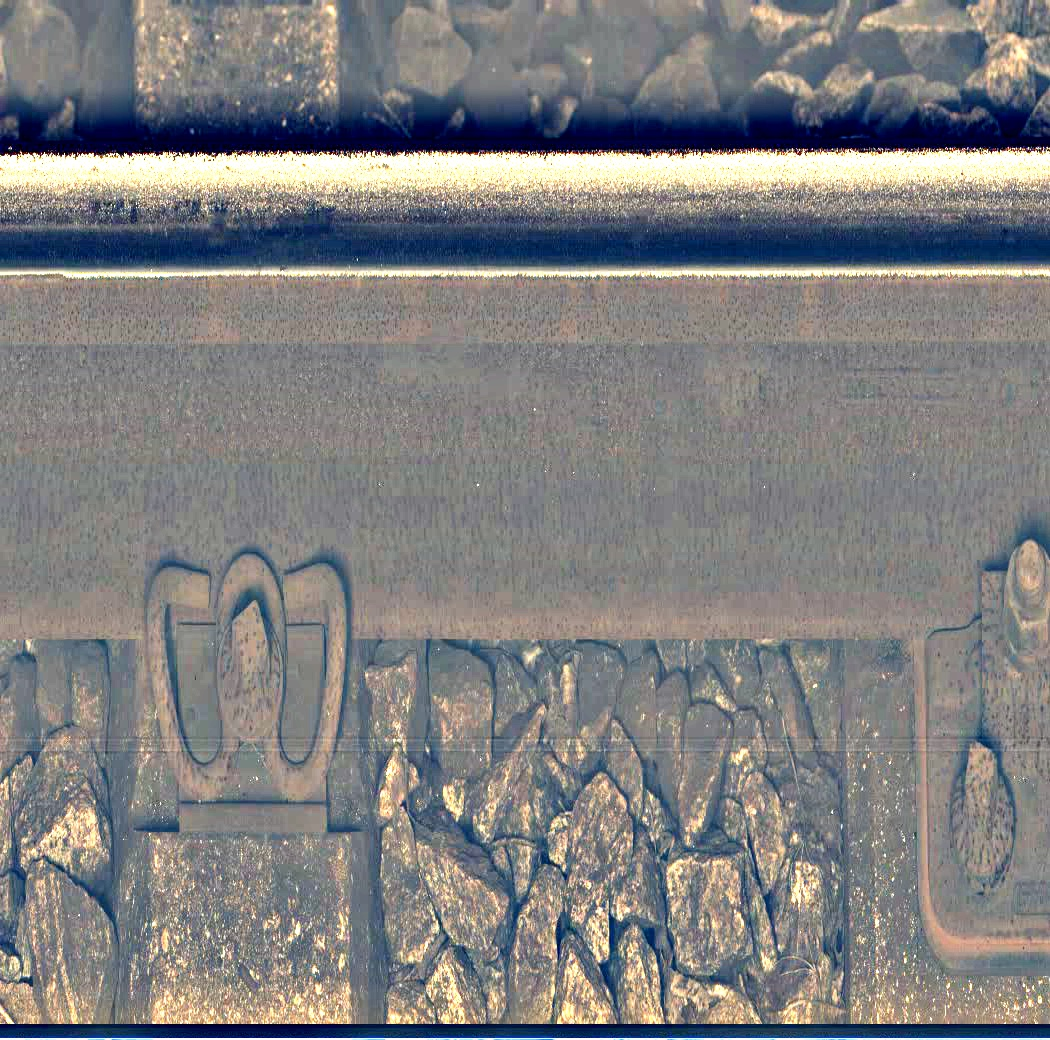KPO: (908, 525, 1050, 987)
tension_clamp: (98, 528, 394, 836)
